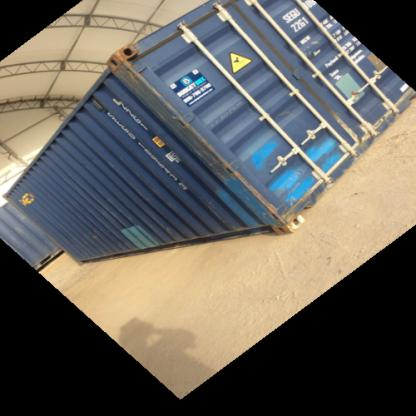Damage: (104, 44, 188, 118), (226, 166, 309, 228), (182, 107, 230, 172), (327, 111, 371, 149)
